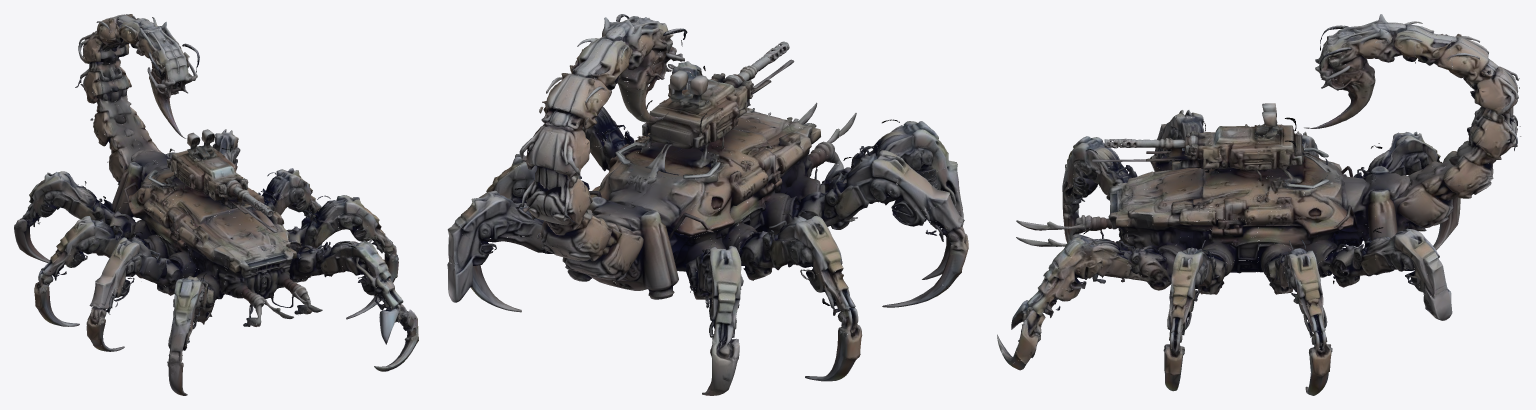
The model's file is sofa_src.glb.
3 views of the same model, side by side, from view 1: azimuth 30°, elevation 25°; view 2: azimuth 150°, elevation 25°; view 3: azimuth 270°, elevation 25° (orthographic). The views are drawn at different scales.
Parts seen in each view (by area): view 1: world; view 2: world; view 3: world.
Part boxes in pixels (x1,y1,x2,y2): world: (14, 14, 418, 395); world: (447, 14, 968, 395); world: (997, 14, 1521, 395).
Bounding box in the file's own units: 0.8195 × 0.6443 × 0.9998.
1 material, 1 textured.
